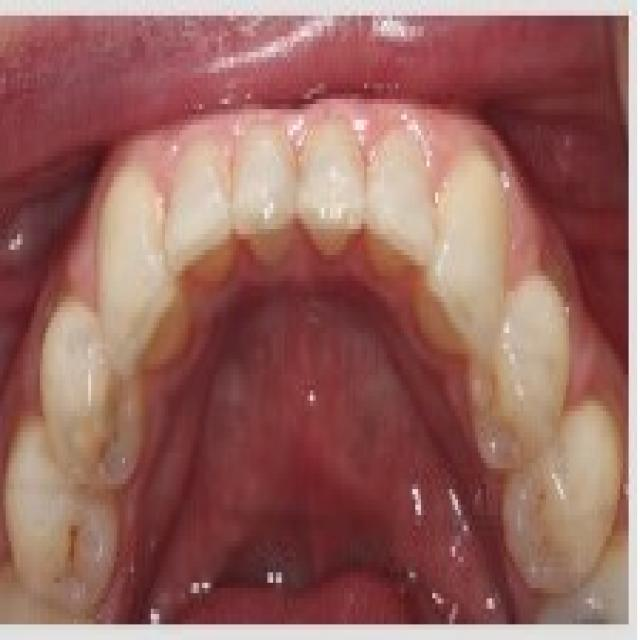tooth: (3, 344, 102, 594), (86, 224, 180, 421), (427, 146, 509, 369), (472, 245, 555, 452), (540, 411, 612, 593), (222, 114, 296, 270), (367, 140, 427, 296), (304, 114, 364, 266), (160, 167, 233, 266)
